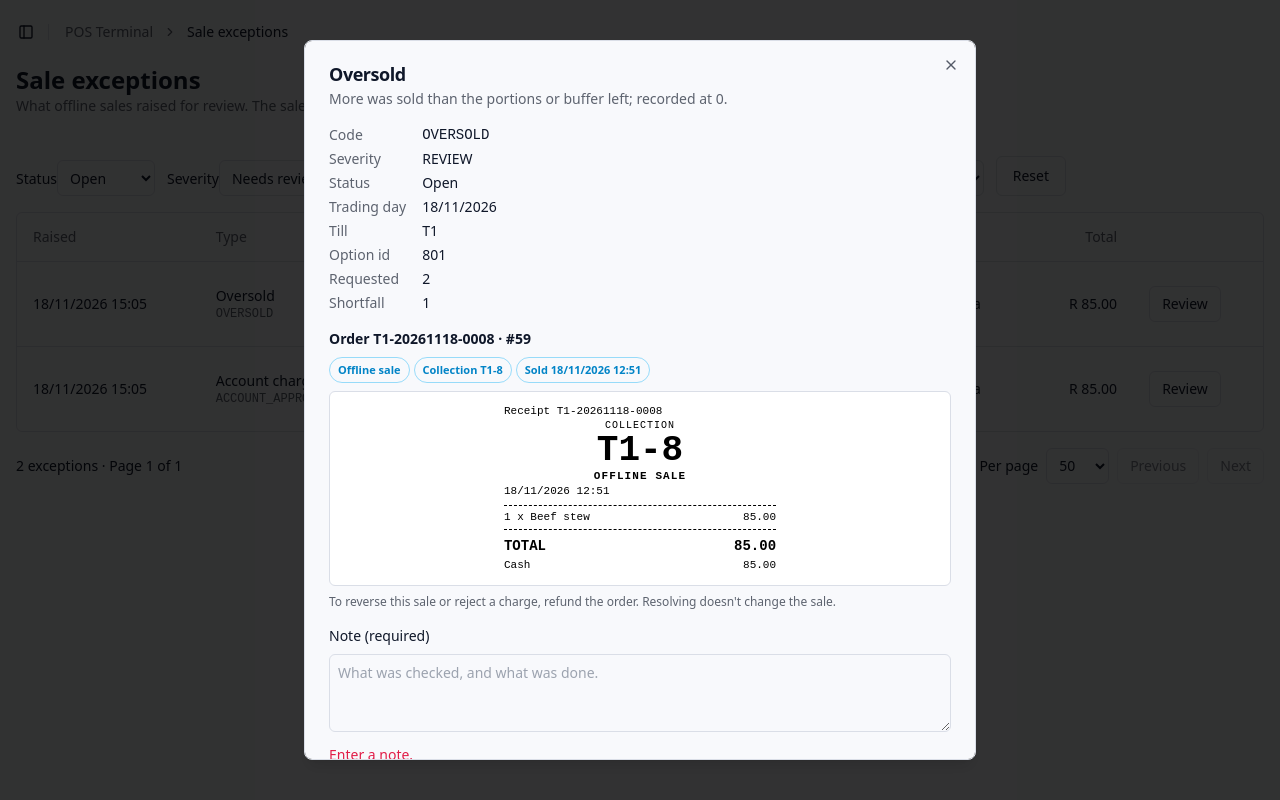
Test: the detail › shows the detail and the full order, and resolves with a required note
Earlier steps of the test are not shown.
Check: the text "Enter a note." is shown, box [329,745,413,760]
In the text box labelled "Note (required)": (640, 693) [329,654,951,732], type "Counted; spare tray."
(page scrolled)
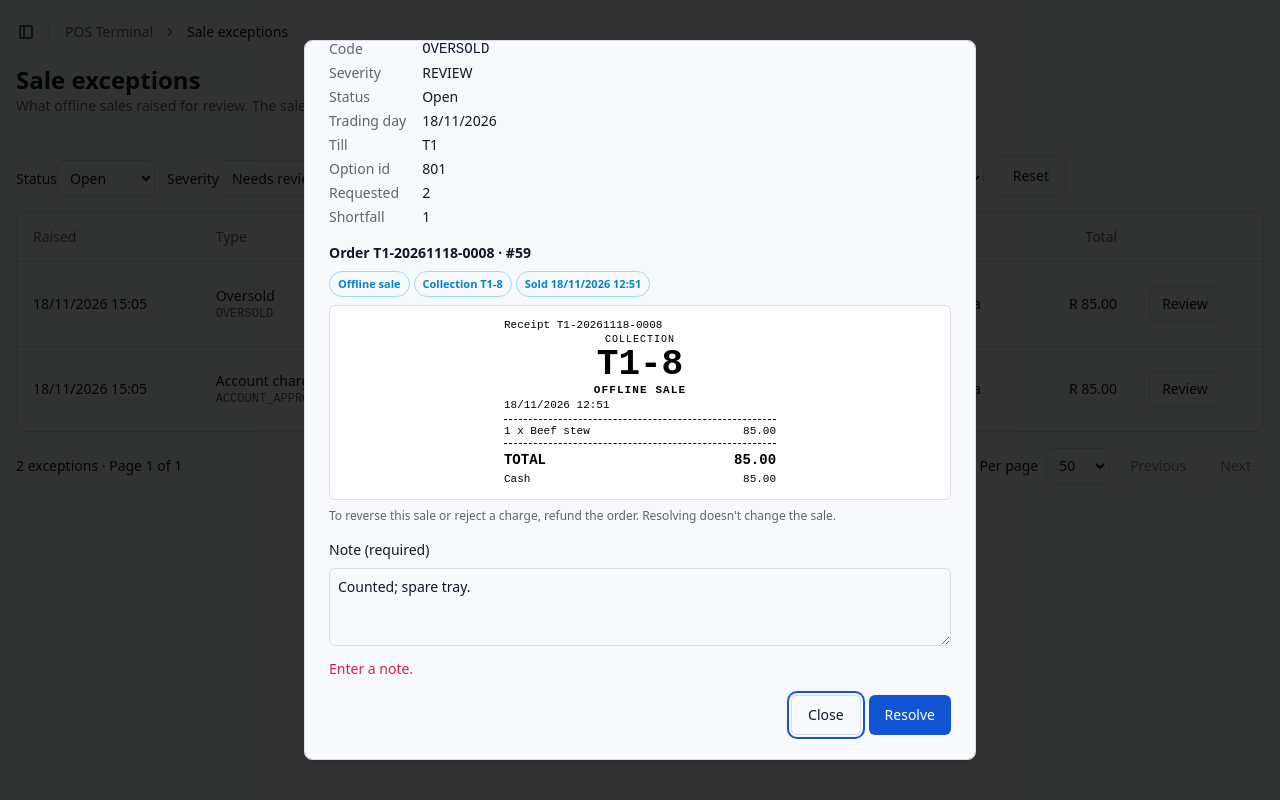
Click the button "Resolve": (910, 715) [869,695,951,735]
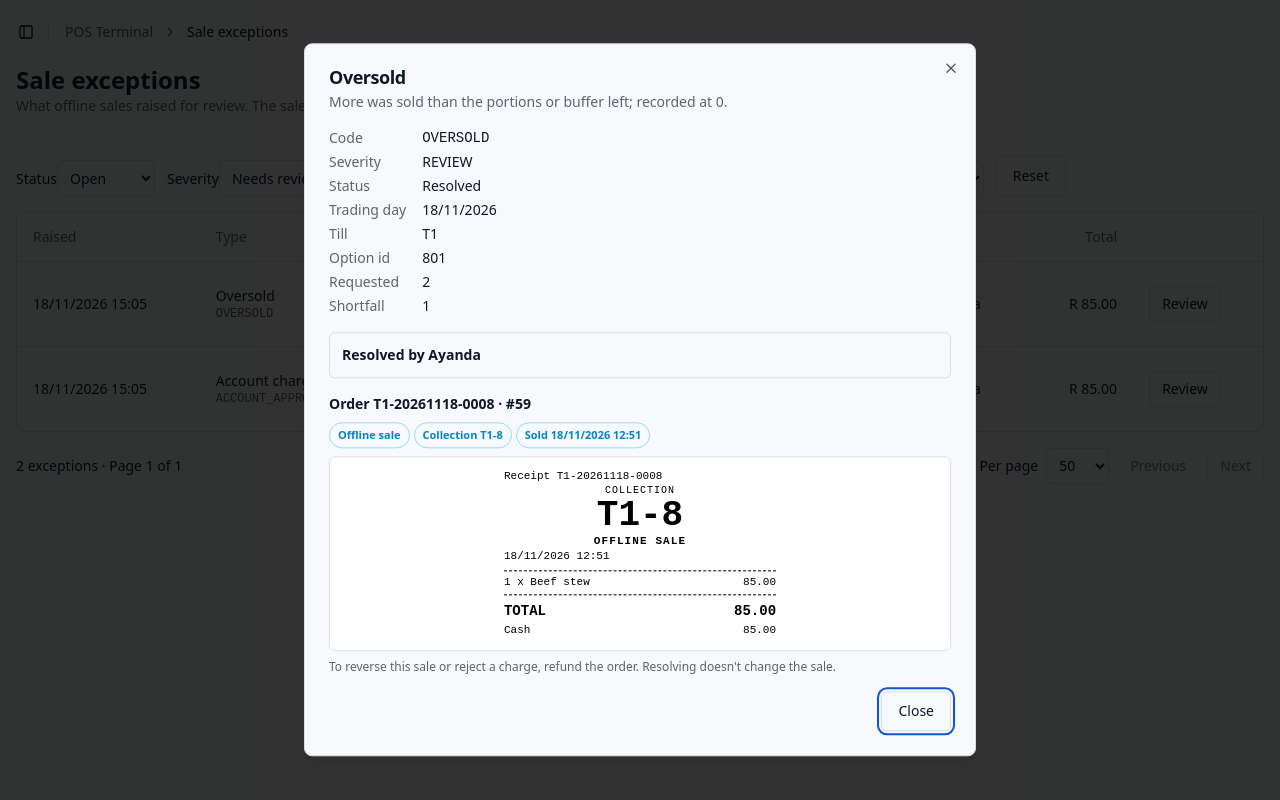
Check: the text "Resolved by Ayanda" is shown, box [342,345,481,364]
